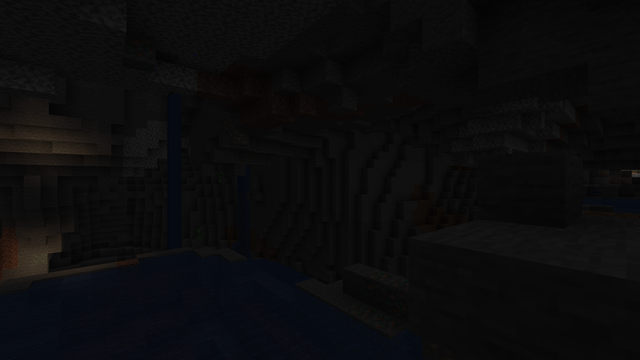creepers: (196, 227, 201, 239), (217, 172, 222, 183)
